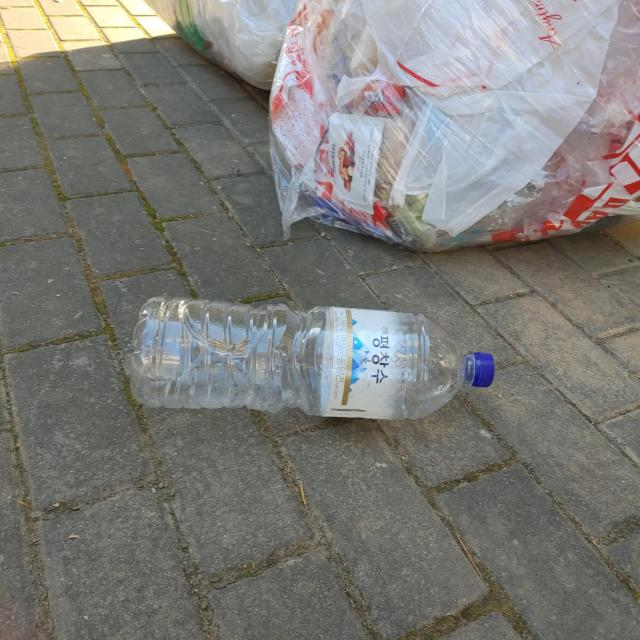plastic: (130, 297, 495, 420)
